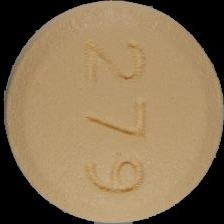63629-3995: (0, 0, 224, 224)
